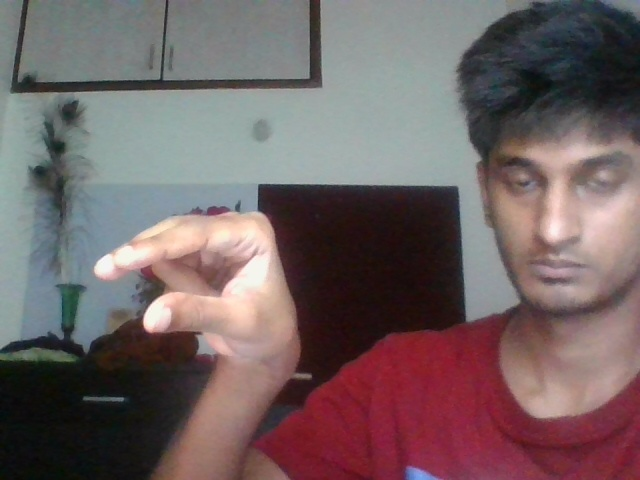No: (70, 186, 328, 422)
